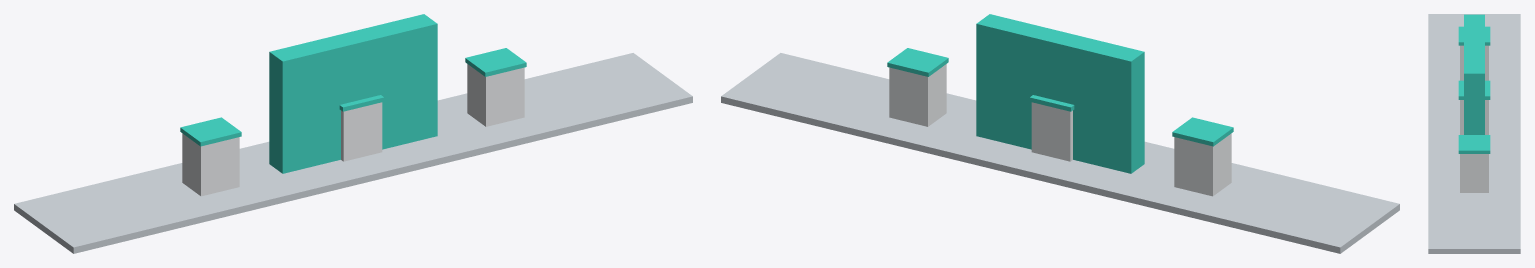
The picture shows the model from 3 angles, left to right: view 1: azimuth 30°, elevation 25°; view 2: azimuth 150°, elevation 25°; view 3: azimuth 270°, elevation 25°; orthographic projection. The views are drawn at different scales.
Parts seen in each view (by area): view 1: Exhibition Booth Concept; view 2: Exhibition Booth Concept; view 3: Exhibition Booth Concept.
Boxes of the visible parts, x1,y1,x2,y2 form: Exhibition Booth Concept: (14, 14, 692, 253); Exhibition Booth Concept: (721, 14, 1399, 253); Exhibition Booth Concept: (1428, 14, 1520, 253).
Bounding box in the file's own units: 12 × 2.2 × 2.
